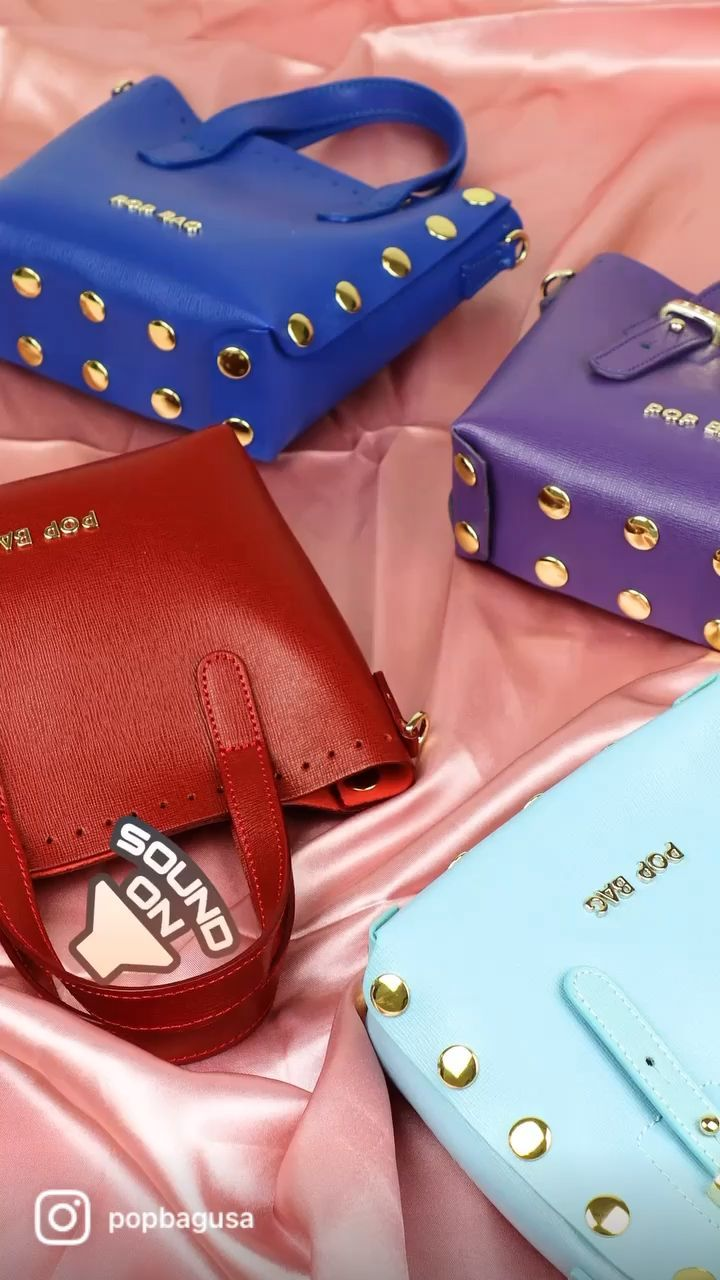cuero: (2, 76, 720, 1280)
